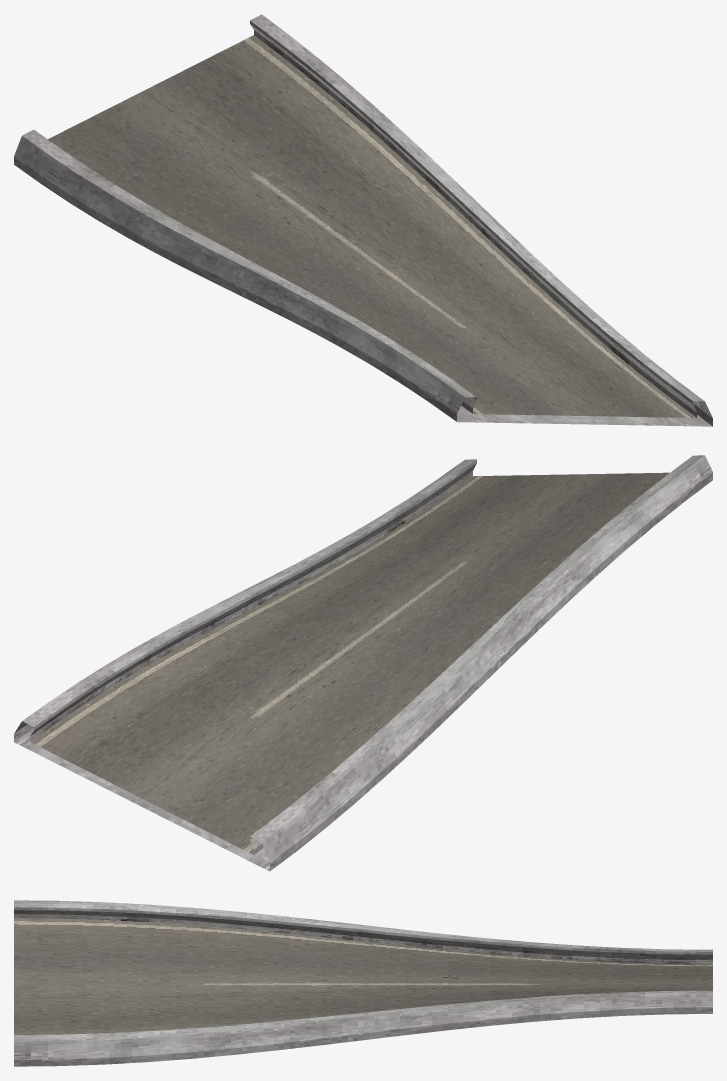
File: road-Straight-HalfBankedRight-HalfBankedLeft-Even-Center-Size3.glb
3 renders of one model, top to bottom at view 1: azimuth 30°, elevation 25°; view 2: azimuth 150°, elevation 25°; view 3: azimuth 270°, elevation 25°, orthographic. The views are drawn at different scales.
Parts seen in each view (by area): view 1: road-Straight-HalfBankedRight-HalfBankedLeft-Even-Center-Siz; view 2: road-Straight-HalfBankedRight-HalfBankedLeft-Even-Center-Siz; view 3: road-Straight-HalfBankedRight-HalfBankedLeft-Even-Center-Siz.
Boxes of the visible parts, x1,y1,x2,y2 form: road-Straight-HalfBankedRight-HalfBankedLeft-Even-Center-Siz: [14, 14, 712, 426]; road-Straight-HalfBankedRight-HalfBankedLeft-Even-Center-Siz: [14, 455, 712, 871]; road-Straight-HalfBankedRight-HalfBankedLeft-Even-Center-Siz: [14, 900, 712, 1066].
Bounding box in the file's own units: 1 × 0.3359 × 3.
Materials: 2 (2 with a texture image).
